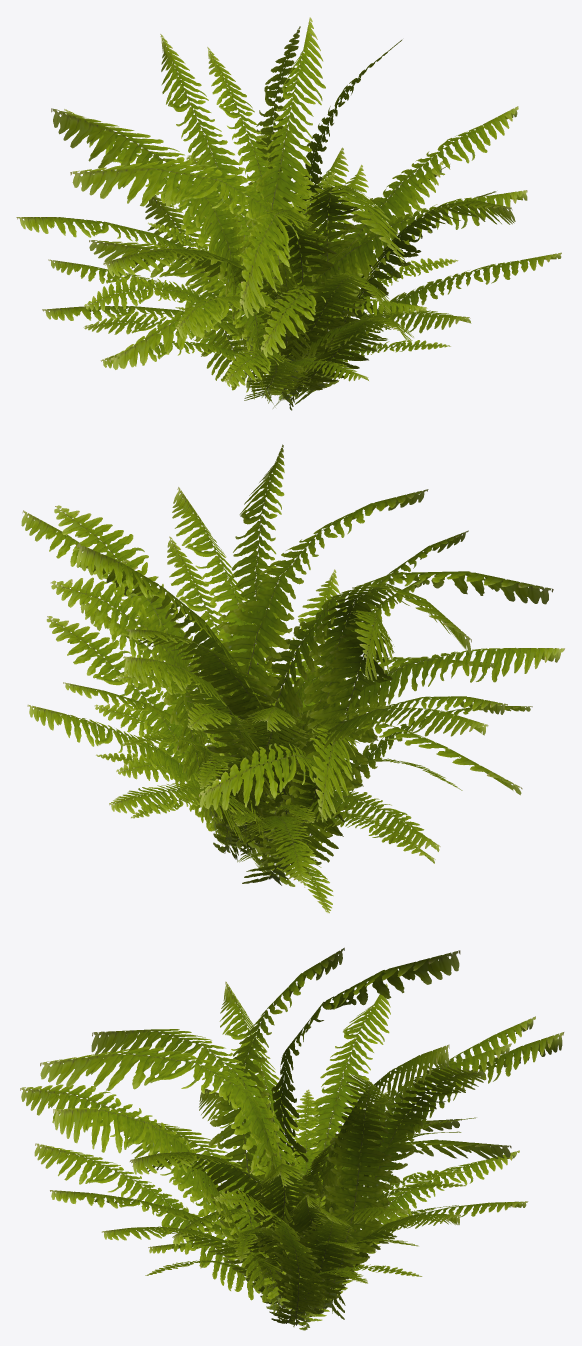
The model's file is Fern_1.fbx.
The picture shows the model from 3 angles, top to bottom: view 1: azimuth 30°, elevation 25°; view 2: azimuth 150°, elevation 25°; view 3: azimuth 270°, elevation 25°; orthographic projection. The views are drawn at different scales.
Visible parts, largest first — view 1: pasted__group11_polySurface51; view 2: pasted__group11_polySurface51; view 3: pasted__group11_polySurface51.
Boxes of the visible parts, x1,y1,x2,y2 form: pasted__group11_polySurface51: [16, 17, 561, 410]; pasted__group11_polySurface51: [21, 444, 564, 913]; pasted__group11_polySurface51: [20, 947, 564, 1330].
Bounding box in the file's own units: 3131 × 2063 × 3117.
